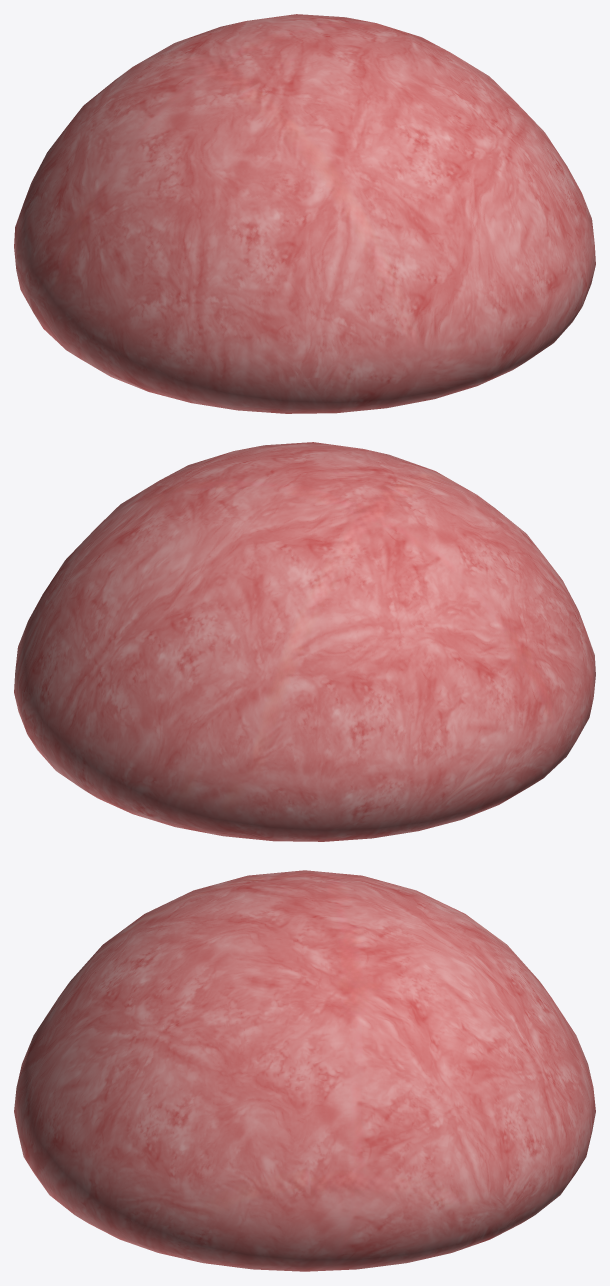
File: placenta_interior.fbx
3 renders of one model, top to bottom at view 1: azimuth 30°, elevation 25°; view 2: azimuth 150°, elevation 25°; view 3: azimuth 270°, elevation 25°, orthographic.
Parts seen in each view (by area): view 1: Placenta_interior; view 2: Placenta_interior; view 3: Placenta_interior.
Boxes of the visible parts, box(x1,y1,x2,y2) form: Placenta_interior: box(14, 14, 595, 413); Placenta_interior: box(14, 442, 595, 841); Placenta_interior: box(14, 870, 595, 1271).
Bounding box in the file's own units: 61.47 × 31.72 × 61.47.
1 material, 1 textured.
